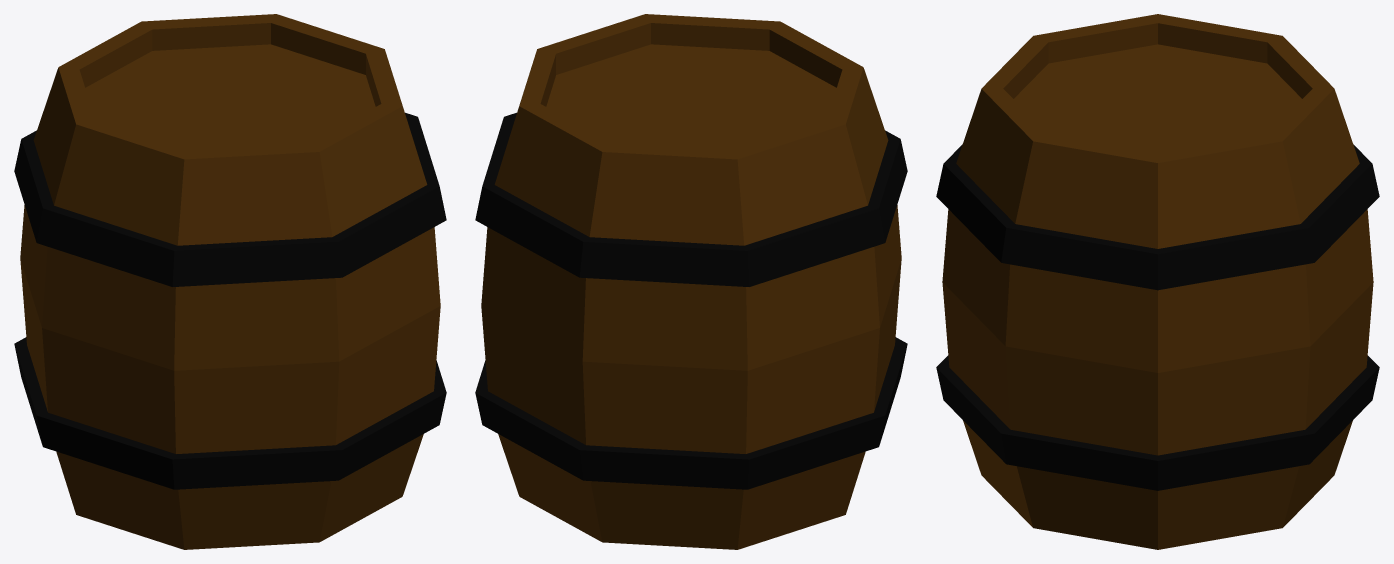
The model's file is barrel-template.fbx.
3 views of the same model, side by side, from view 1: azimuth 30°, elevation 25°; view 2: azimuth 150°, elevation 25°; view 3: azimuth 270°, elevation 25° (orthographic).
Parts seen in each view (by area): view 1: Cylinder; view 2: Cylinder; view 3: Cylinder.
Part boxes in pixels (x1=…): Cylinder: x1=14, y1=14, x2=446, y2=549; Cylinder: x1=475, y1=14, x2=907, y2=549; Cylinder: x1=936, y1=14, x2=1379, y2=549.
Bounding box in the file's own units: 251 × 242 × 251.
